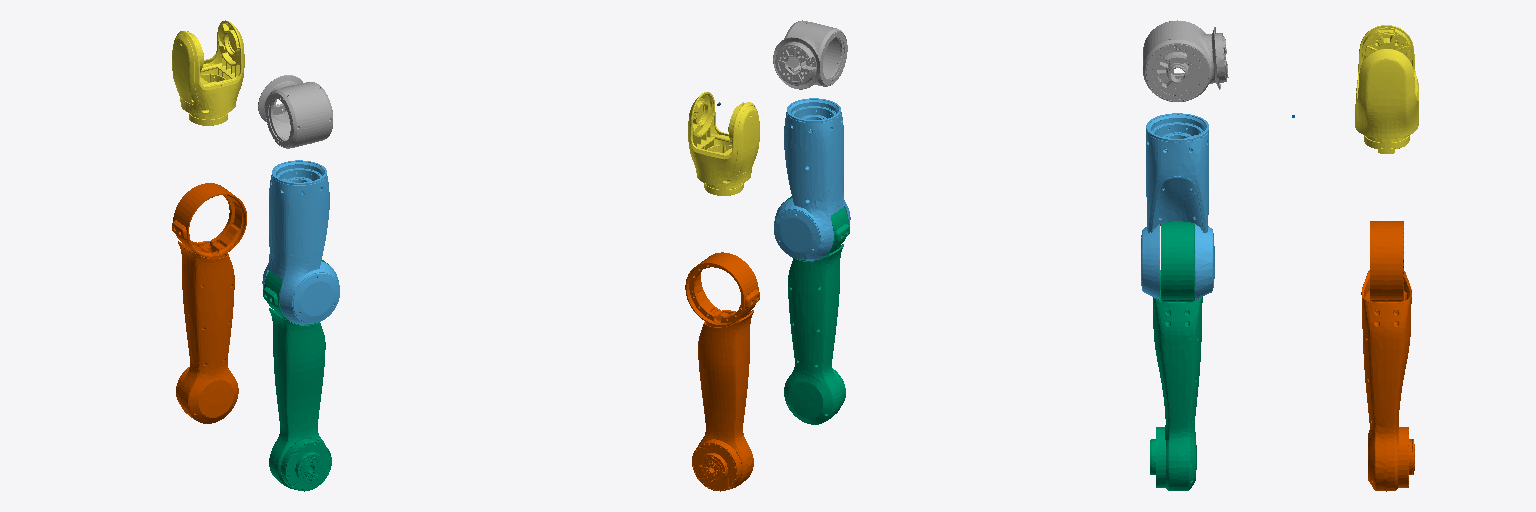
robot.urdf — bipedal_robot:
<?xml version='1.0' encoding='utf-8'?>
<robot name="bipedal_robot">
  <mujoco>
    <compiler meshdir="../meshes"/>
  </mujoco>

  <!-- base -->
  <link name="base_Link">
    <inertial>
      <origin xyz="0.00385 -0.00011 0.11254" rpy="0.0 0.0 0.0"/>
      <mass value="12.57"/>
      <inertia ixx="0.11473868" ixy="-1.726e-05" ixz="0.00717502" iyy="0.13581253" iyz="8.123e-05" izz="0.10540873"/>
    </inertial>
    <visual>
      <geometry>
        <mesh filename="../meshes/base_Link.STL"/>
      </geometry>
    </visual>
    <collision>
      <geometry>
        <mesh filename="../meshes/base_Link.STL"/>
      </geometry>
    </collision>
  </link>

  <!-- base imu -->
  <link name="base_imu">
    <inertial>
      <origin xyz="0.0 0.0 0.0" rpy="0.0 0.0 0.0"/>
      <mass value="0.01"/>
      <inertia ixx="1e-06" ixy="0.0" ixz="0.0" iyy="1e-06" iyz="0.0" izz="1e-06"/>
    </inertial>
  </link>
  <joint name="base_imu_Joint" type="fixed">
    <origin xyz="0.0 0.0 0.0" rpy="0.0 0.0 0.0"/>
    <parent link="base_Link"/>
    <child link="base_imu"/>
  </joint>

  <!-- proximal pitch L Link -->
  <link name="proximal_pitch_L_Link">
    <inertial>
      <origin xyz="-0.00547 0.07014 -0.00611" rpy="0.0 0.0 0.0"/>
      <mass value="2.21"/>
      <inertia ixx="0.00438539" ixy="-1.065e-05" ixz="1.817e-05" iyy="0.00308183" iyz="5.213e-05" izz="0.00349504"/>
    </inertial>
    <visual>
      <geometry>
        <mesh filename="../meshes/proximal_pitch_L_Link.STL"/>
      </geometry>
    </visual>
    <collision>
      <geometry>
        <mesh filename="../meshes/proximal_pitch_L_Link.STL"/>
      </geometry>
    </collision>
  </link>
  <joint name="proximal_pitch_L_Joint" type="revolute">
    <origin xyz="-0.00044 0.09178 0.05474" rpy="0.0 0.0 0.0"/>
    <parent link="base_Link"/>
    <child link="proximal_pitch_L_Link"/>
    <axis xyz="0.0 0.9961947268929313 -0.0871554135479712"/>
    <limit lower="-3.141592653589793" upper="2.600540585471551" effort="150.0" velocity="18.3"/>
  </joint>
  <link name="proximal_roll_L_Link">
    <inertial>
      <origin xyz="0.03124 0.00035 -0.08414" rpy="0.0 0.0 0.0"/>
      <mass value="1.74"/>
      <inertia ixx="0.00476933" ixy="-1.172e-05" ixz="3.271e-05" iyy="0.00545584" iyz="-2.946e-05" izz="0.00305316"/>
    </inertial>
    <visual>
      <geometry>
        <mesh filename="../meshes/proximal_roll_L_Link.STL"/>
      </geometry>
    </visual>
    <collision>
      <geometry>
        <mesh filename="../meshes/proximal_roll_L_Link.STL"/>
      </geometry>
    </collision>
  </link>
  <joint name="proximal_roll_L_Joint" type="revolute">
    <origin xyz="-0.032 0.0758 -0.00663" rpy="0.0 0.0 0.0"/>
    <parent link="proximal_pitch_L_Link"/>
    <child link="proximal_roll_L_Link"/>
    <axis xyz="1.0 0.0 0.0"/>
    <limit lower="-0.2617993877991494" upper="3.1939524787897455" effort="150.0" velocity="18.3"/>
  </joint>
  <link name="proximal_yaw_L_Link">
    <inertial>
      <origin xyz="-0.00254 0.00155 -0.10742" rpy="0.0 0.0 0.0"/>
      <mass value="1.65"/>
      <inertia ixx="0.01554314" ixy="-3.32e-06" ixz="0.00024639" iyy="0.01485362" iyz="7.569e-05" izz="0.00378004"/>
    </inertial>
    <visual>
      <geometry>
        <mesh filename="../meshes/proximal_yaw_L_Link.STL"/>
      </geometry>
    </visual>
    <collision>
      <geometry>
        <mesh filename="../meshes/proximal_yaw_L_Link.STL"/>
      </geometry>
    </collision>
  </link>
  <joint name="proximal_yaw_L_Joint" type="revolute">
    <origin xyz="0.032 0.0 -0.1374" rpy="0.0 0.0 0.0"/>
    <parent link="proximal_roll_L_Link"/>
    <child link="proximal_yaw_L_Link"/>
    <axis xyz="0.0 0.0 1.0"/>
    <limit lower="-3.6651914291880923" upper="1.4835298641951802" effort="60.0" velocity="22.52"/>
  </joint>
  <link name="knee_L_Link">
    <inertial>
      <origin xyz="-0.00204 -0.02449 -0.12995" rpy="0.0 0.0 0.0"/>
      <mass value="4.66"/>
      <inertia ixx="0.11057056" ixy="7.11e-06" ixz="-0.0010003" iyy="0.11286353" iyz="0.00158987" izz="0.00620343"/>
    </inertial>
    <visual>
      <geometry>
        <mesh filename="../meshes/knee_L_Link.STL"/>
      </geometry>
    </visual>
    <collision>
      <geometry>
        <mesh filename="../meshes/knee_L_Link.STL"/>
      </geometry>
    </collision>
  </link>
  <joint name="knee_L_Joint" type="revolute">
    <origin xyz="0.004 0.032 -0.2126" rpy="0.0 0.0 0.0"/>
    <parent link="proximal_yaw_L_Link"/>
    <child link="knee_L_Link"/>
    <axis xyz="0.0 1.0 0.0"/>
    <limit lower="-2.6179938779914944" upper="0.2617993877991494" effort="150.0" velocity="18.3"/>
  </joint>
  <link name="wheel_L_Link">
    <inertial>
      <origin xyz="0.00048 0.00484 0.0003" rpy="0.0 0.0 0.0"/>
      <mass value="0.91"/>
      <inertia ixx="0.00256223" ixy="7.6e-07" ixz="-2.292e-05" iyy="0.00490844" iyz="4.2e-07" izz="0.00259234"/>
    </inertial>
    <visual>
      <geometry>
        <mesh filename="../meshes/wheel_L_Link.STL"/>
      </geometry>
    </visual>
    <collision>
      <origin rpy="1.5707963267948966 0 0" xyz="0 0.003 0" />
      <geometry>
          <cylinder length="0.045" radius="0.1" />
      </geometry>
    </collision>
  </link>
  <joint name="wheel_L_Joint" type="revolute">
    <origin xyz="-0.004 0.013 -0.35" rpy="0.0 0.0 0.0"/>
    <parent link="knee_L_Link"/>
    <child link="wheel_L_Link"/>
    <axis xyz="0.0 1.0 0.0"/>
    <limit lower="-1745329.2519943295" upper="1745329.2519943295" effort="22.0" velocity="41.89"/>
  </joint>

  <!-- proximal pitch R Link -->
  <link name="proximal_pitch_R_Link">
    <inertial>
      <origin xyz="-0.00547 -0.07014 -0.00611" rpy="-0.0 0.0 -0.0"/>
      <mass value="2.21"/>
      <inertia ixx="0.00438539" ixy="1.065e-05" ixz="1.817e-05" iyy="0.00308183" iyz="-5.213e-05" izz="0.00349504"/>
    </inertial>
    <visual>
      <geometry>
        <mesh filename="../meshes/proximal_pitch_R_Link.STL"/>
      </geometry>
    </visual>
    <collision>
      <geometry>
        <mesh filename="../meshes/proximal_pitch_R_Link.STL"/>
      </geometry>
    </collision>
  </link>
  <joint name="proximal_pitch_R_Joint" type="revolute">
    <origin xyz="-0.00044 -0.09178 0.05474" rpy="0.0 0.0 0.0"/>
    <parent link="base_Link"/>
    <child link="proximal_pitch_R_Link"/>
    <axis xyz="0.0 0.9961947268929313 0.0871554135479712"/>
    <limit lower="-3.141592653589793" upper="2.600540585471551" effort="150.0" velocity="18.3"/>
  </joint>
  <link name="proximal_roll_R_Link">
    <inertial>
      <origin xyz="0.03124 -0.00035 -0.08414" rpy="0.0 0.0 0.0"/>
      <mass value="1.74"/>
      <inertia ixx="0.00476933" ixy="1.172e-05" ixz="3.271e-05" iyy="0.00545584" iyz="2.946e-05" izz="0.00305316"/>
    </inertial>
    <visual>
      <geometry>
        <mesh filename="../meshes/proximal_roll_R_Link.STL"/>
      </geometry>
    </visual>
    <collision>
      <geometry>
        <mesh filename="../meshes/proximal_roll_R_Link.STL"/>
      </geometry>
    </collision>
  </link>
  <joint name="proximal_roll_R_Joint" type="revolute">
    <origin xyz="-0.032 -0.0758 -0.00663" rpy="0.0 0.0 0.0"/>
    <parent link="proximal_pitch_R_Link"/>
    <child link="proximal_roll_R_Link"/>
    <axis xyz="1.0 0.0 0.0"/>
    <limit lower="-3.1939524787897455" upper="0.2617993877991494" effort="150.0" velocity="18.3"/>
  </joint>
  <link name="proximal_yaw_R_Link">
    <inertial>
      <origin xyz="-0.00254 -0.00155 -0.10742" rpy="-0.0 0.0 -0.0"/>
      <mass value="1.65"/>
      <inertia ixx="0.01554314" ixy="3.32e-06" ixz="0.00024639" iyy="0.01485362" iyz="-7.569e-05" izz="0.00378004"/>
    </inertial>
    <visual>
      <geometry>
        <mesh filename="../meshes/proximal_yaw_R_Link.STL"/>
      </geometry>
    </visual>
    <collision>
      <geometry>
        <mesh filename="../meshes/proximal_yaw_R_Link.STL"/>
      </geometry>
    </collision>
  </link>
  <joint name="proximal_yaw_R_Joint" type="revolute">
    <origin xyz="0.032 -0.0 -0.1374" rpy="0.0 0.0 0.0"/>
    <parent link="proximal_roll_R_Link"/>
    <child link="proximal_yaw_R_Link"/>
    <axis xyz="0.0 0.0 1.0"/>
    <limit lower="-1.4835298641951802" upper="3.6651914291880923" effort="60.0" velocity="22.52"/>
  </joint>
  <link name="knee_R_Link">
    <inertial>
      <origin xyz="-0.00204 0.02449 -0.12995" rpy="-0.0 0.0 -0.0"/>
      <mass value="4.66"/>
      <inertia ixx="0.11057056" ixy="-7.11e-06" ixz="-0.0010003" iyy="0.11286353" iyz="-0.00158987" izz="0.00620343"/>
    </inertial>
    <visual>
      <geometry>
        <mesh filename="../meshes/knee_R_Link.STL"/>
      </geometry>
    </visual>
    <collision>
      <geometry>
        <mesh filename="../meshes/knee_R_Link.STL"/>
      </geometry>
    </collision>
  </link>
  <joint name="knee_R_Joint" type="revolute">
    <origin xyz="0.004 -0.032 -0.2126" rpy="0.0 0.0 0.0"/>
    <parent link="proximal_yaw_R_Link"/>
    <child link="knee_R_Link"/>
    <axis xyz="0.0 1.0 0.0"/>
    <limit lower="-2.6179938779914944" upper="0.2617993877991494" effort="150.0" velocity="18.3"/>
  </joint>
  <link name="wheel_R_Link">
    <inertial>
      <origin xyz="0.00048 -0.00484 0.0003" rpy="-0.0 0.0 -0.0"/>
      <mass value="0.91"/>
      <inertia ixx="0.00256223" ixy="-7.6e-07" ixz="-2.292e-05" iyy="0.00490844" iyz="-4.2e-07" izz="0.00259234"/>
    </inertial>
    <visual>
      <geometry>
        <mesh filename="../meshes/wheel_R_Link.STL"/>
      </geometry>
    </visual>
    <collision>
      <origin rpy="1.5707963267948966 0 0" xyz="0 -0.003 0" />
      <geometry>
          <cylinder length="0.045" radius="0.1" />
      </geometry>
    </collision>
  </link>
  <joint name="wheel_R_Joint" type="revolute">
    <origin xyz="-0.004 -0.013 -0.35" rpy="0.0 0.0 0.0"/>
    <parent link="knee_R_Link"/>
    <child link="wheel_R_Link"/>
    <axis xyz="0.0 1.0 0.0"/>
    <limit lower="-1745329.2519943295" upper="1745329.2519943295" effort="22.0" velocity="41.89"/>
  </joint>

  <!-- Camera --> 
  <link name="d435_Link">
    <inertial>
      <mass value="0.001"/>
      <inertia ixx="1e-07" ixy="0.0" ixz="0.0" iyy="1e-07" iyz="0.0" izz="1e-07"/>
    </inertial>
    <visual>
      <geometry>
        <box size="0.005 0.005 0.005"/>
      </geometry>
    </visual>
  </link>
  <joint name="d435_Joint" type="fixed">
    <origin xyz="0.0968 0.01759 -0.00409" rpy="0 2.7227 0"/>
    <parent link="base_Link"/>
    <child link="d435_Link"/>
  </joint>
  
  <link name="d435_optical_frame">
    <inertial>
      <mass value="0.001"/>
      <inertia ixx="1e-07" ixy="0.0" ixz="0.0" iyy="1e-07" iyz="0.0" izz="1e-07"/>
    </inertial>
  </link>
  <joint name="d435_optical_Joint" type="fixed">
    <origin rpy="-1.5707963267948966 0 -1.5707963267948966" xyz="0 0 0"/>
    <parent link="d435_Link"/>
    <child link="d435_optical_frame"/>
  </joint>
</robot>

--- Facts derived from the render (not from the file) ---
The picture shows the robot from 3 angles, left to right: view 1: azimuth 30°, elevation 25°; view 2: azimuth 150°, elevation 25°; view 3: azimuth 270°, elevation 25°; orthographic projection.
Model bipedal_robot with 14 links and 13 joints (10 revolute, 3 fixed), rooted at base_Link, posed all joints at 0.
Links seen in each view (by area): view 1: knee_L_Link, proximal_yaw_R_Link, knee_R_Link, proximal_roll_L_Link, proximal_pitch_R_Link; view 2: knee_L_Link, proximal_yaw_R_Link, knee_R_Link, proximal_roll_L_Link, proximal_pitch_R_Link; view 3: knee_L_Link, knee_R_Link, proximal_yaw_R_Link, proximal_roll_L_Link, proximal_pitch_R_Link.
Link boxes in pixels (x1,y1,x2,y2): knee_L_Link: (172,183,246,423); proximal_yaw_R_Link: (262,160,339,324); knee_R_Link: (263,260,331,491); proximal_roll_L_Link: (172,20,244,125); proximal_pitch_R_Link: (258,75,332,148); knee_L_Link: (685,252,759,491); proximal_yaw_R_Link: (774,98,850,260); knee_R_Link: (781,196,849,424); proximal_roll_L_Link: (688,92,759,195); proximal_pitch_R_Link: (773,20,847,89); knee_L_Link: (1361,221,1414,491); knee_R_Link: (1150,221,1202,490); proximal_yaw_R_Link: (1141,113,1214,299); proximal_roll_L_Link: (1355,25,1418,153); proximal_pitch_R_Link: (1143,20,1228,101).
Bounding box of the posed robot: 0.1678 × 0.4465 × 0.8111 m (x, y, z).
5 mesh visuals loaded from 11 distinct referenced files (5 binary STL); not drawn: 6 (reference not matched to a file when rendering).
